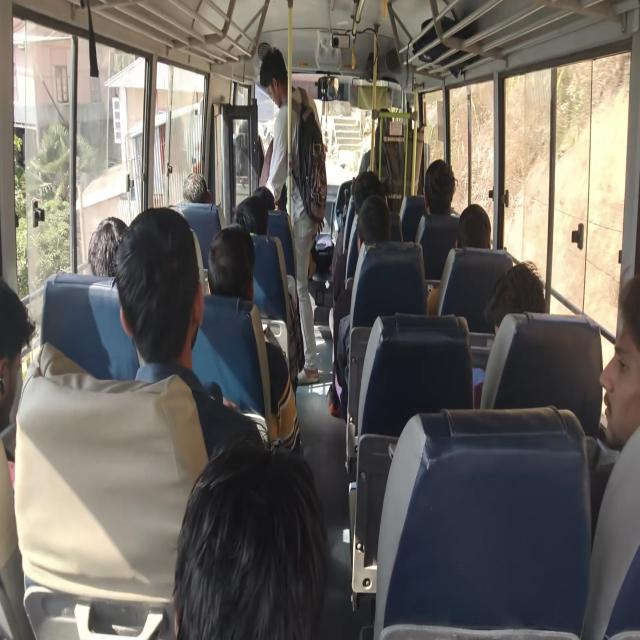person: (171, 434, 326, 638), (112, 207, 200, 362), (337, 171, 390, 320), (428, 204, 496, 316), (599, 276, 639, 447), (0, 274, 35, 452), (261, 59, 312, 151), (206, 222, 255, 300), (88, 217, 128, 280), (355, 192, 392, 249), (495, 276, 546, 316), (423, 158, 456, 217), (457, 203, 491, 249), (235, 192, 269, 235), (352, 170, 384, 214), (182, 172, 211, 205), (253, 185, 275, 216)
